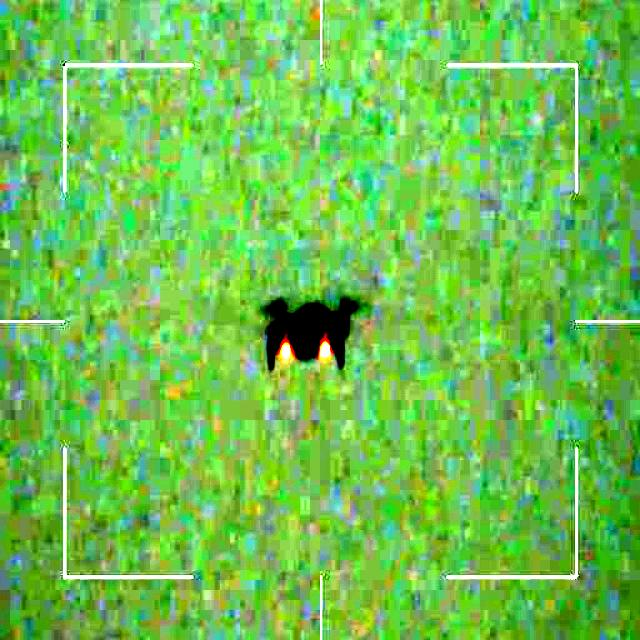bird: (260, 294, 362, 370)
